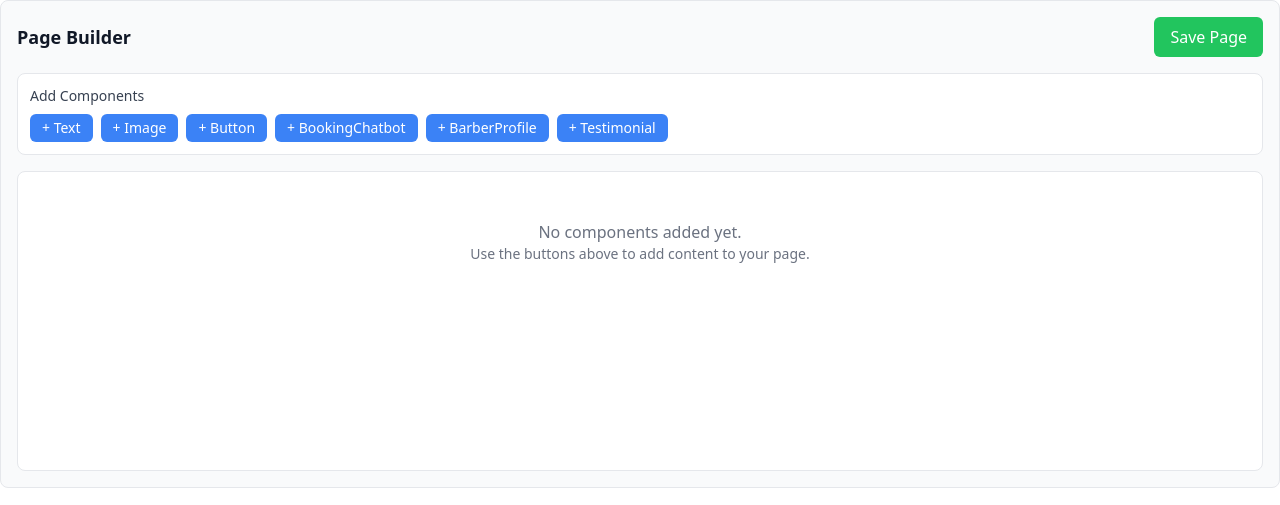
Test: PageBuilder Component › adds button component when button button is clicked
Click the button "+ Button". click: (227, 128)
box: [186,114,267,142]
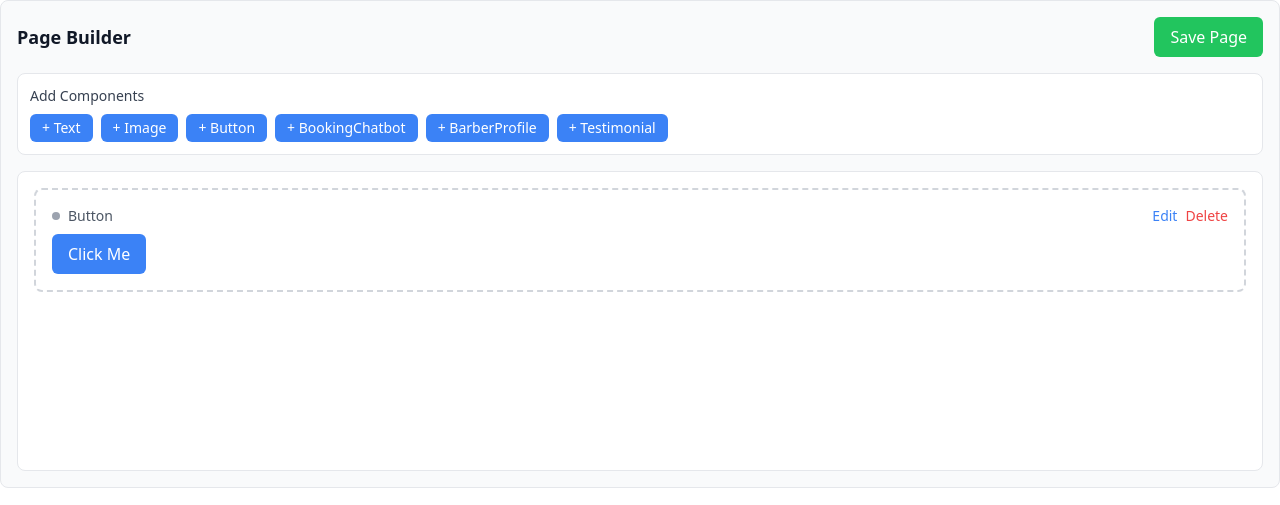
Expected: the link "Click Me" is shown, [52,234,146,274]
